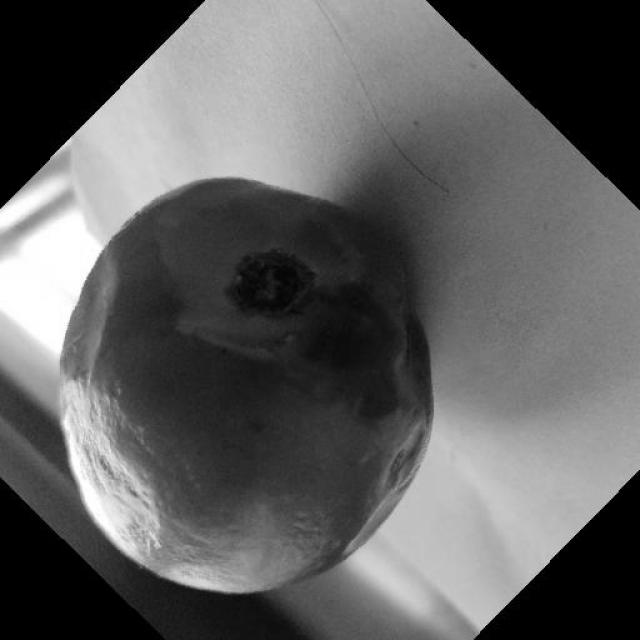Stale_tomato: (54, 178, 443, 601)
